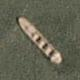ship: (0, 0, 31, 29)
